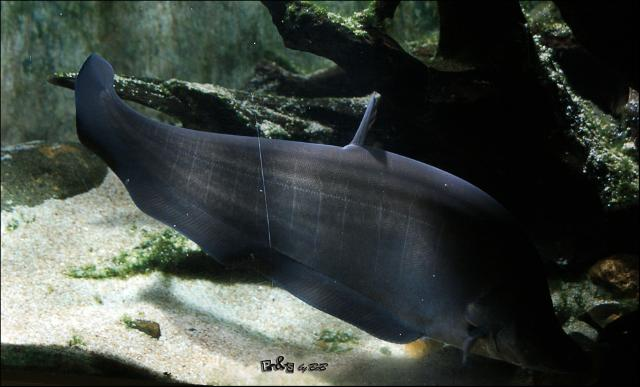Sirip Dada: (458, 317, 500, 387)
Sirip Perut: (434, 334, 456, 368)
Sirip Punggung: (344, 70, 392, 160)
